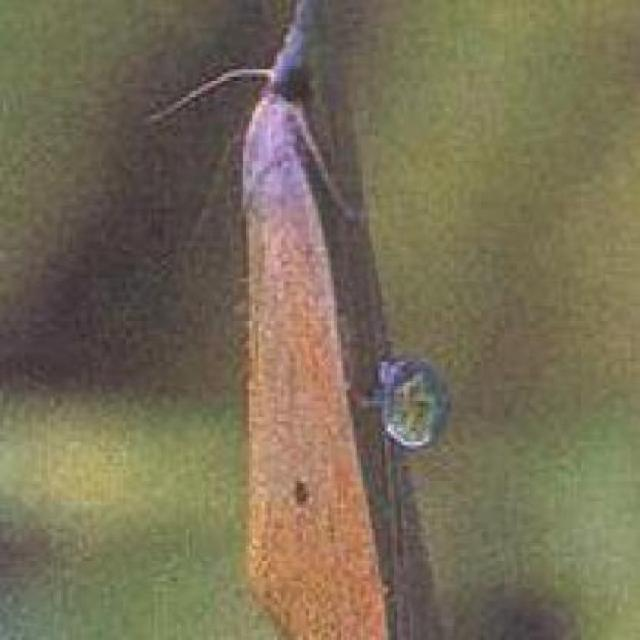stem-borer: (224, 0, 378, 640)
